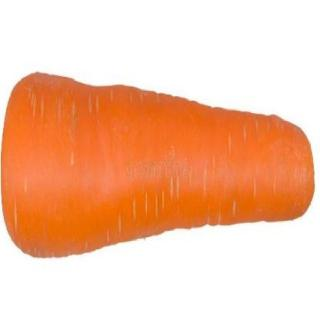carrot: (0, 64, 318, 270)
